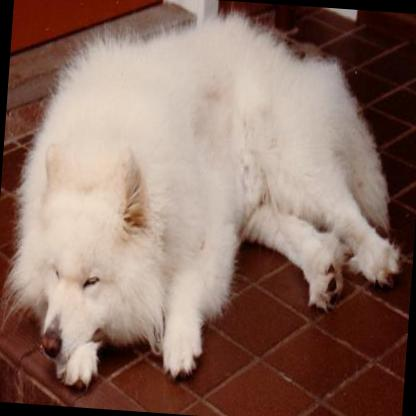Samoyed: (0, 0, 416, 412)
